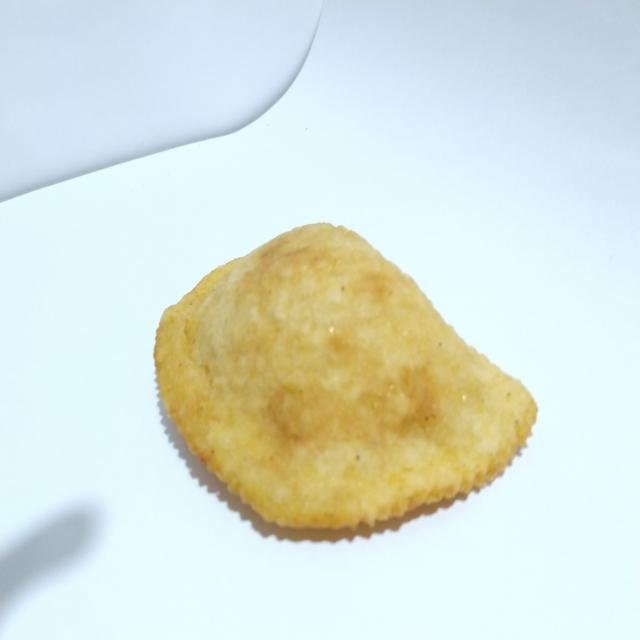Pastel_Mandio: (142, 211, 544, 546)
